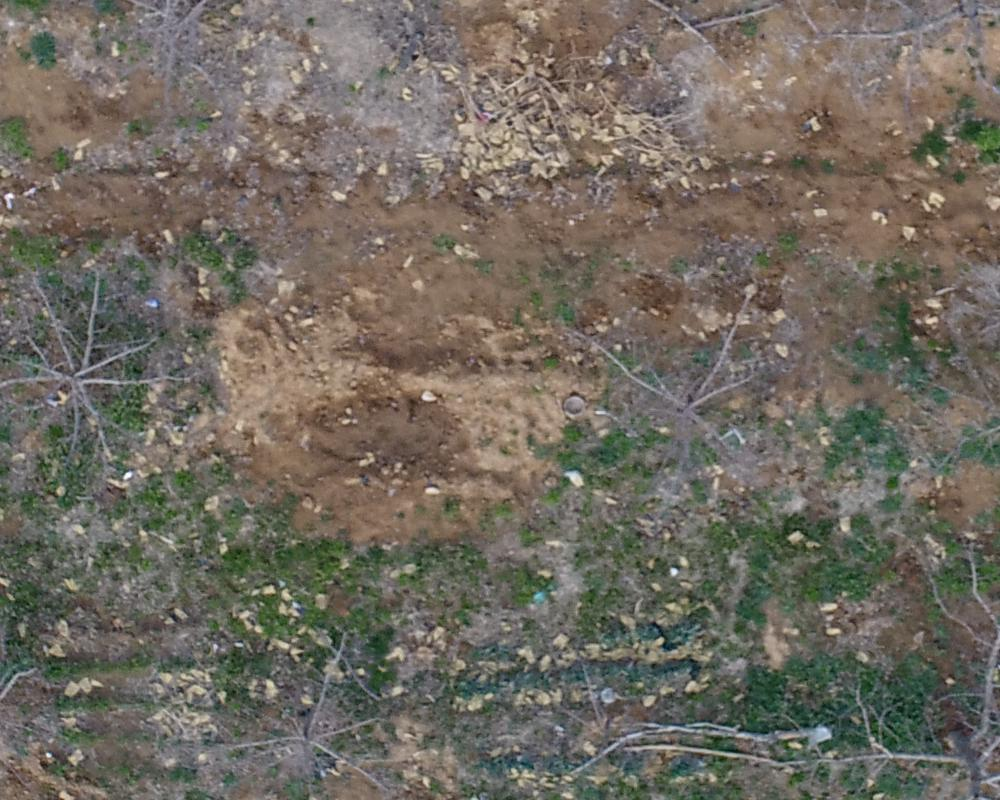apple: (10, 254, 205, 470), (569, 289, 791, 464), (192, 630, 412, 790), (79, 10, 285, 105)
